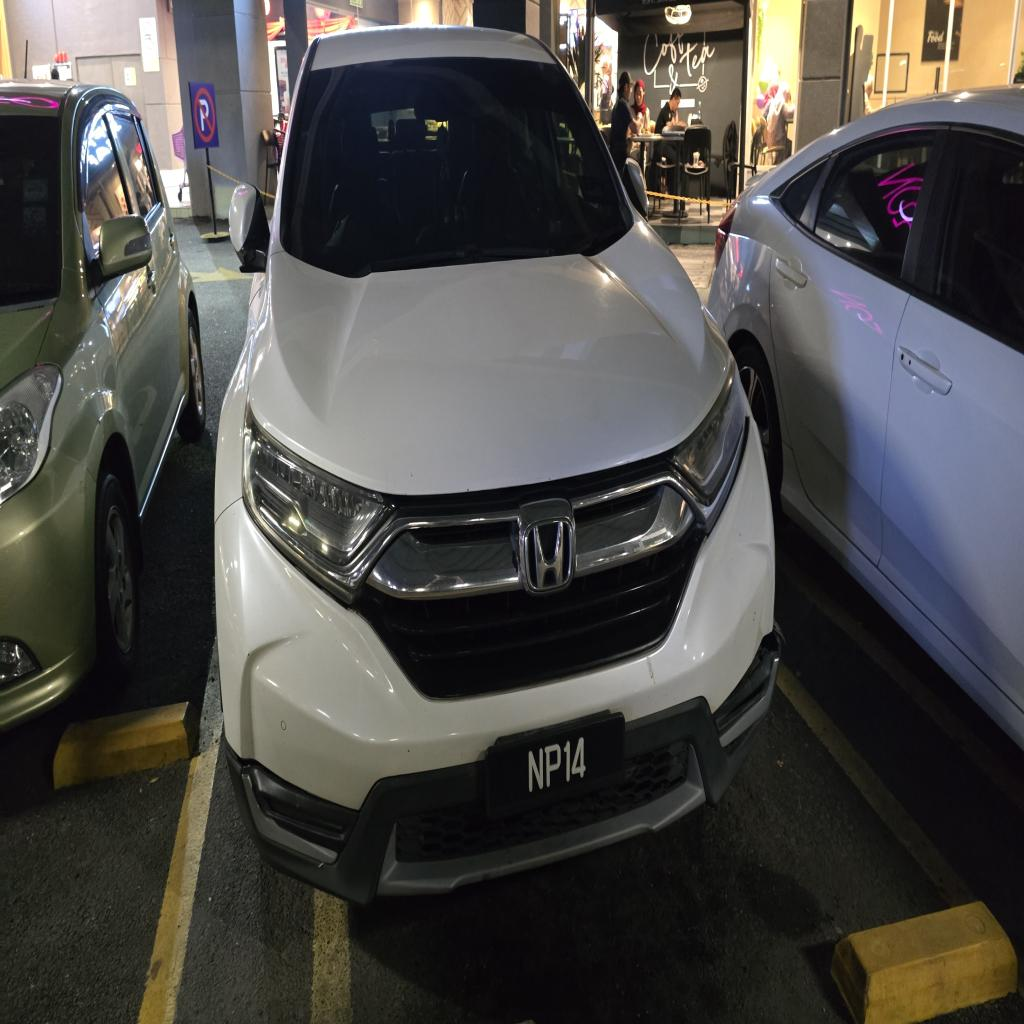car: (215, 27, 779, 901)
car plate: (485, 713, 624, 817)
